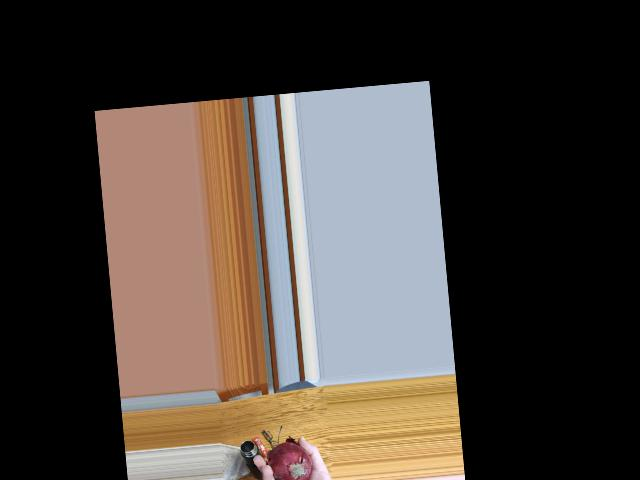onion: (267, 444, 314, 480)
